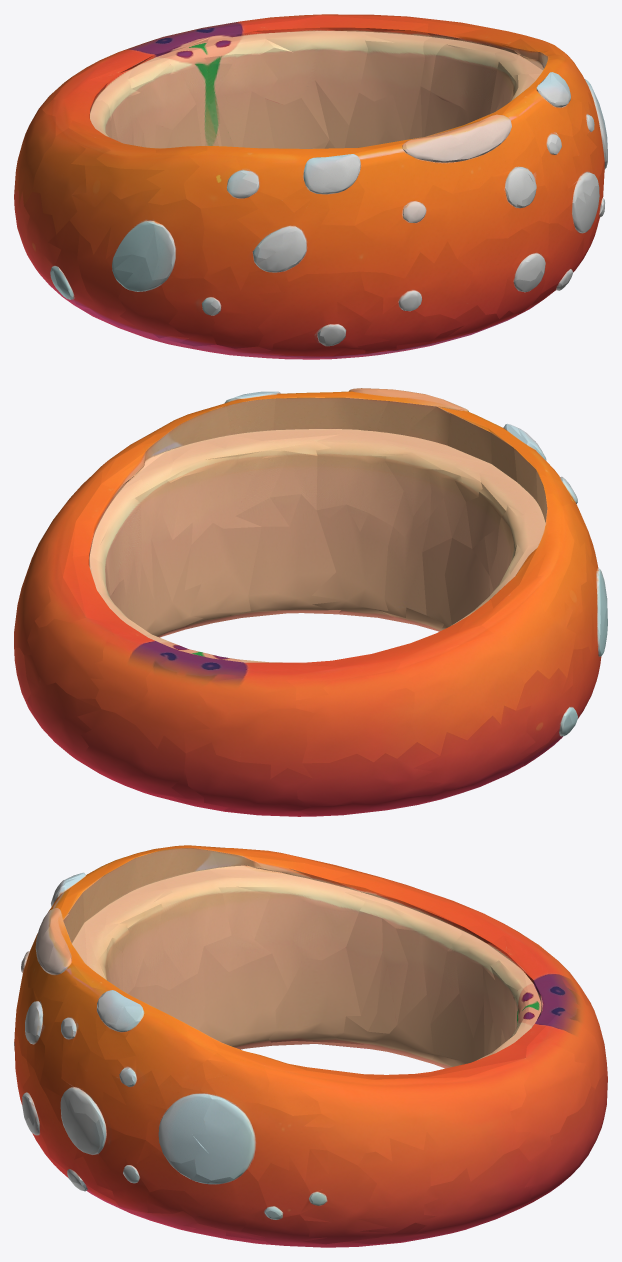
Rendered from hw-ring.glb.
The picture shows the model from 3 angles, top to bottom: view 1: azimuth 30°, elevation 25°; view 2: azimuth 150°, elevation 25°; view 3: azimuth 270°, elevation 25°; orthographic projection.
Size of the model in its own units: 1.9 by 0.7812 by 1.86.
Materials: 1 (1 with a texture image).
